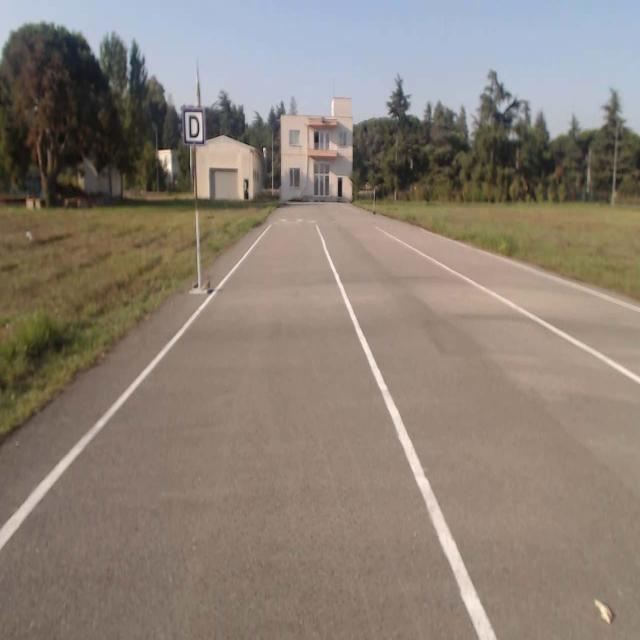durak: (183, 108, 205, 145)
